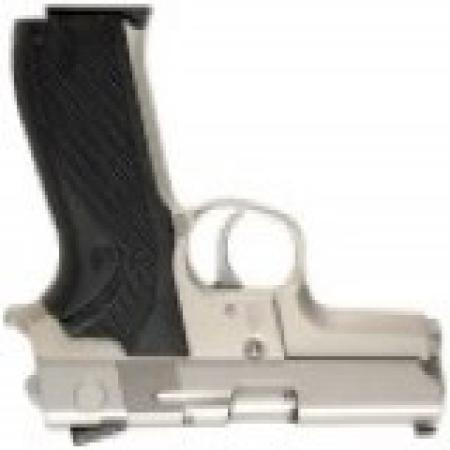Pistol: (8, 15, 438, 443)
